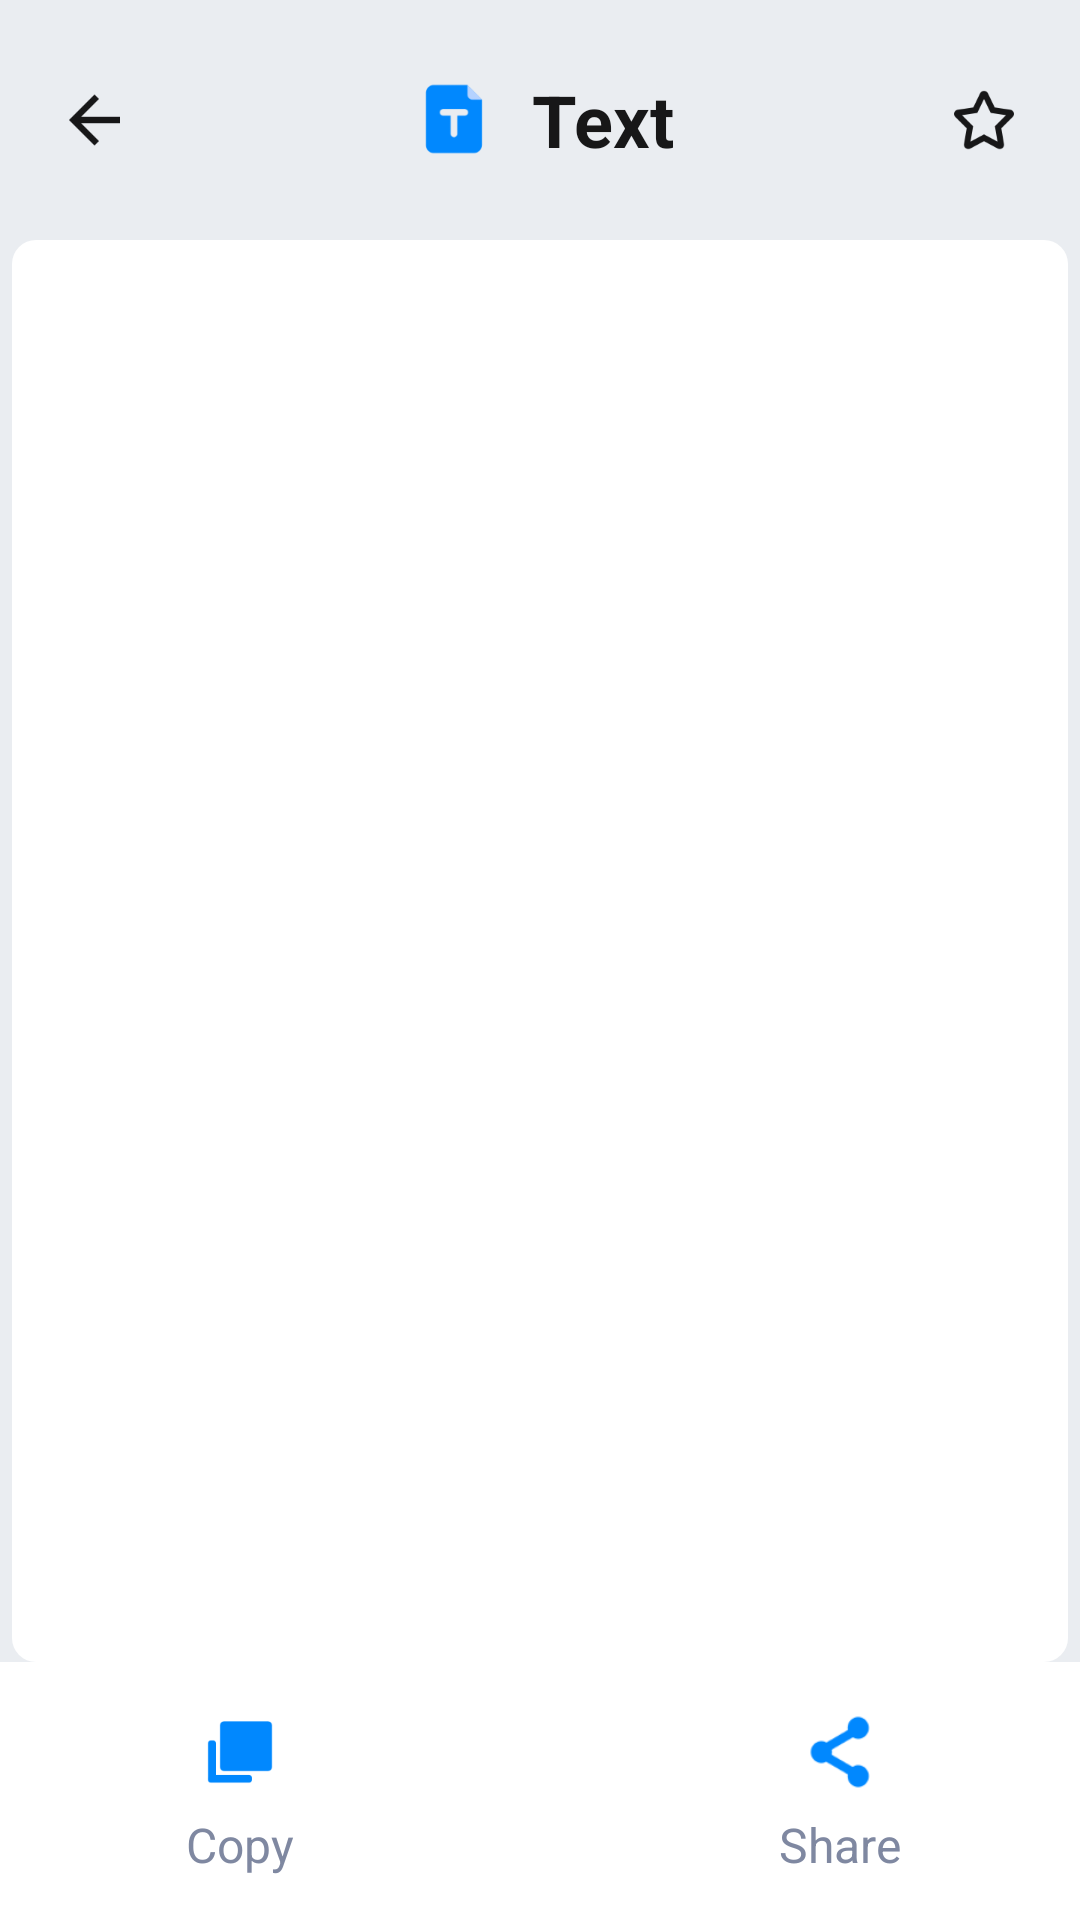

Where to tap for icons on this 1080px×1920px app screen, as (x,y):
results favorites: (984,120)
results page return: (94,120)
